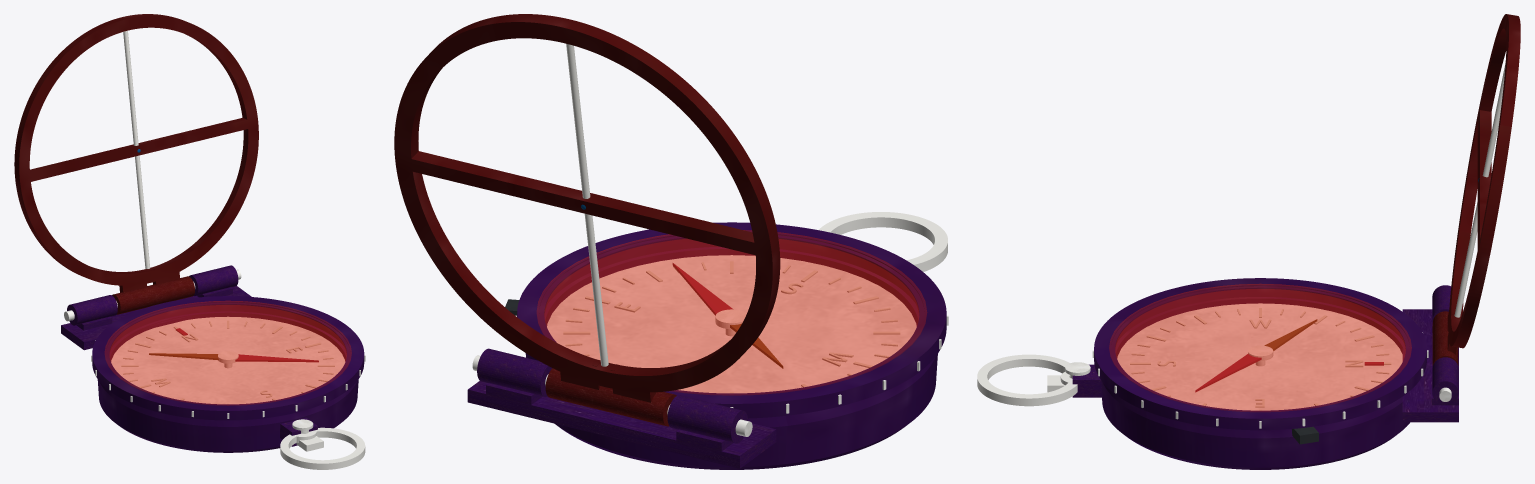
Rendered from pictureX_0611_compass__0108.glb.
3 views of the same model, side by side, from view 1: azimuth 30°, elevation 25°; view 2: azimuth 150°, elevation 25°; view 3: azimuth 270°, elevation 25° (orthographic). The views are drawn at different scales.
Visible parts, largest first — view 1: bezel::glass_lens, cover::sight_frame, case::dial_face, bezel::bezel_ring, case::case_shell, hanging_ring::ring_loop, cover::cover_knuckle, cover::sight_wire, case::hinge_bridge, case::hinge_knuckle_0, case::hinge_knuckle_1, magnetic_needle::north_pointer; view 2: bezel::glass_lens, cover::sight_frame, case::dial_face, bezel::bezel_ring, case::case_shell, case::hinge_bridge, cover::cover_knuckle, hanging_ring::ring_loop, cover::sight_wire, case::hinge_knuckle_0, case::hinge_knuckle_1, case::hinge_post_0 (+2 smaller); view 3: bezel::glass_lens, case::dial_face, bezel::bezel_ring, case::case_shell, cover::sight_frame, hanging_ring::ring_loop, case::hinge_bridge, cover::sight_wire, case::hinge_knuckle_1, cover::cover_knuckle, case::ring_lug.
Part boxes in pixels (bbox=[...]): bezel::glass_lens: bbox=[105, 301, 351, 405]; cover::sight_frame: bbox=[14, 14, 258, 292]; case::dial_face: bbox=[111, 316, 345, 404]; bezel::bezel_ring: bbox=[92, 296, 364, 420]; case::case_shell: bbox=[97, 311, 358, 452]; hanging_ring::ring_loop: bbox=[280, 427, 365, 469]; cover::cover_knuckle: bbox=[112, 276, 194, 314]; cover::sight_wire: bbox=[123, 30, 150, 268]; case::hinge_bridge: bbox=[61, 286, 251, 350]; case::hinge_knuckle_0: bbox=[67, 295, 117, 325]; case::hinge_knuckle_1: bbox=[189, 265, 238, 295]; magnetic_needle::north_pointer: bbox=[235, 354, 318, 362]; bezel::glass_lens: bbox=[537, 230, 926, 395]; cover::sight_frame: bbox=[394, 14, 780, 402]; case::dial_face: bbox=[547, 255, 916, 393]; bezel::bezel_ring: bbox=[517, 222, 946, 418]; case::case_shell: bbox=[525, 246, 937, 469]; case::hinge_bridge: bbox=[467, 381, 776, 468]; cover::cover_knuckle: bbox=[545, 368, 676, 426]; hanging_ring::ring_loop: bbox=[818, 212, 947, 271]; cover::sight_wire: bbox=[566, 43, 608, 366]; case::hinge_knuckle_0: bbox=[667, 395, 747, 443]; case::hinge_knuckle_1: bbox=[477, 348, 552, 397]; case::hinge_post_0: bbox=[676, 429, 732, 453]; bezel::glass_lens: bbox=[1109, 284, 1411, 411]; case::dial_face: bbox=[1117, 303, 1402, 410]; bezel::bezel_ring: bbox=[1094, 278, 1426, 430]; case::case_shell: bbox=[1101, 297, 1409, 469]; cover::sight_frame: bbox=[1447, 14, 1520, 354]; hanging_ring::ring_loop: bbox=[977, 354, 1077, 406]; case::hinge_bridge: bbox=[1402, 309, 1458, 422]; cover::sight_wire: bbox=[1454, 63, 1505, 317]; case::hinge_knuckle_1: bbox=[1432, 357, 1458, 404]; cover::cover_knuckle: bbox=[1432, 311, 1458, 365]; case::ring_lug: bbox=[1072, 364, 1102, 397].
Size of the model in its own units: 0.0817 by 0.0978 by 0.1284.
49 materials, 7 textured.
